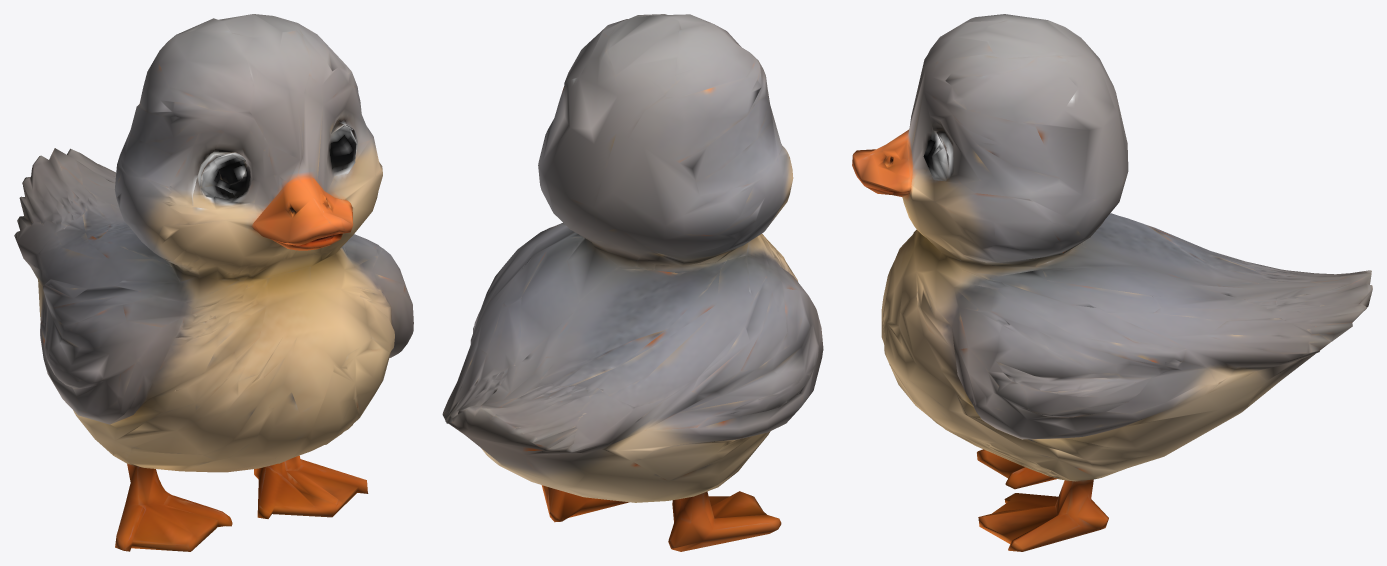
The model's file is lifecycle_goose_baby.glb.
3 views of the same model, side by side, from view 1: azimuth 30°, elevation 25°; view 2: azimuth 150°, elevation 25°; view 3: azimuth 270°, elevation 25° (orthographic). The views are drawn at different scales.
Parts seen in each view (by area): view 1: node_0; view 2: node_0; view 3: node_0.
Part boxes in pixels (x1,y1,x2,y2): node_0: [14, 14, 413, 551]; node_0: [442, 14, 823, 551]; node_0: [852, 14, 1372, 551].
Bounding box in the file's own units: 0.6935 × 1.02 × 1.02.
1 material, 1 textured.
